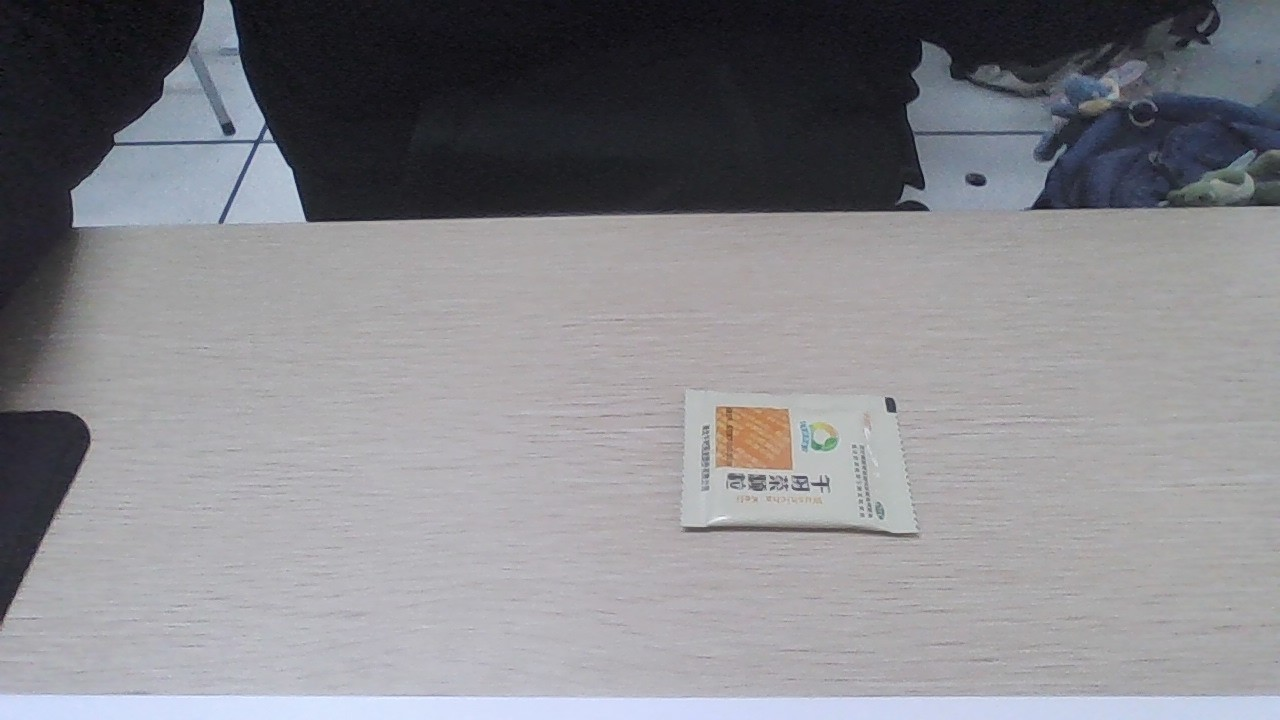YH-yellow medicine: (677, 388, 906, 535)
